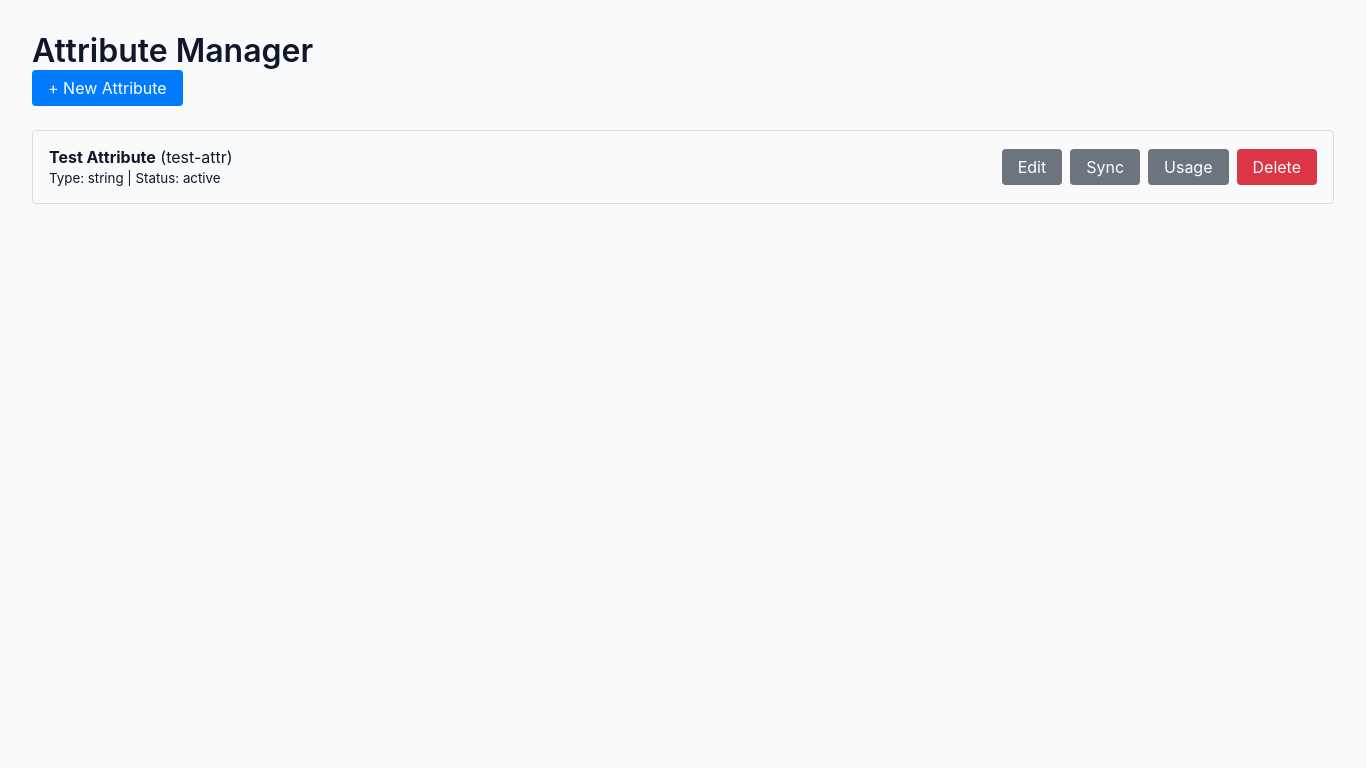
it: AttributeManager Save Error Display (LP-3.0.1) › should show success toast when update succeeds
Note: Open edit modal
Click the button "Edit" at (1032, 167), box [1002,149,1062,185]
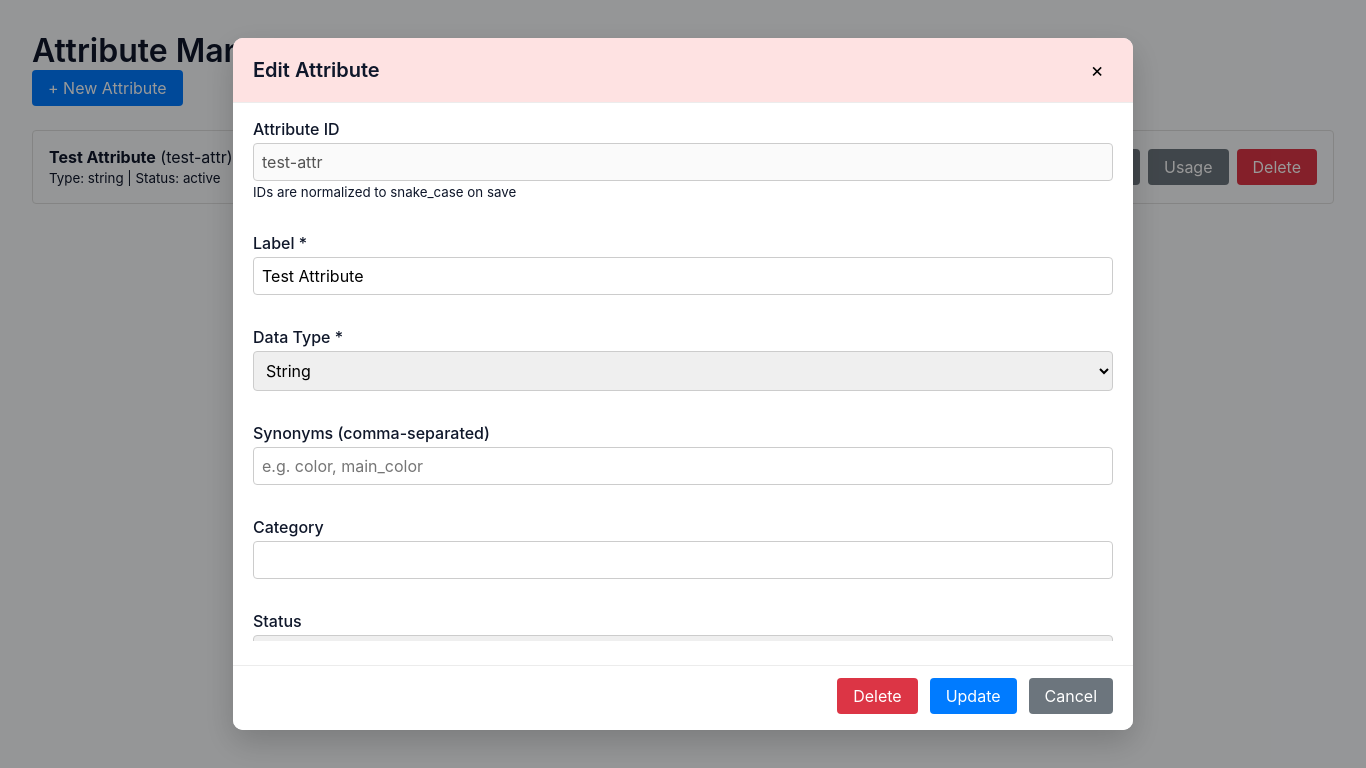
Expected: the dialog is shown
Note: Click update
Click the button "Update" at (973, 696), box [930,678,1016,714]
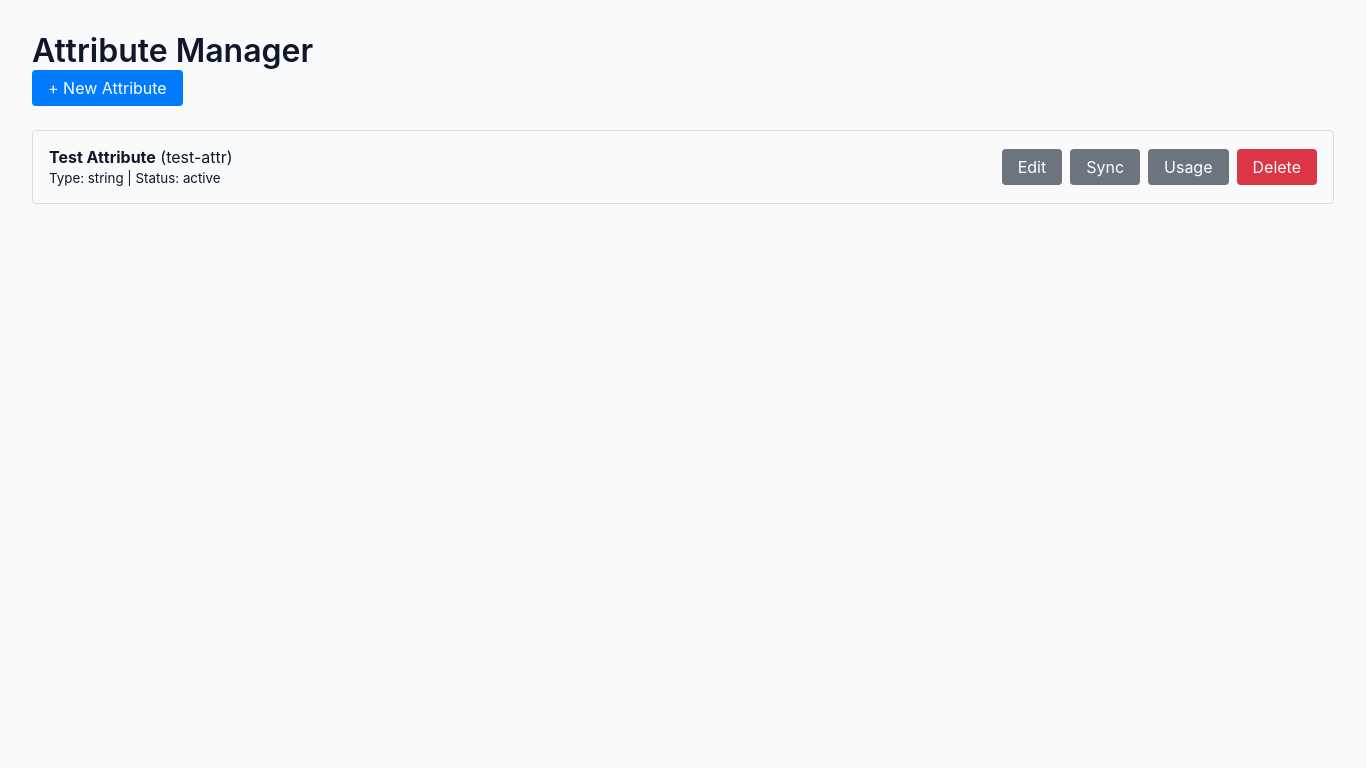
Expected: the dialog is gone
